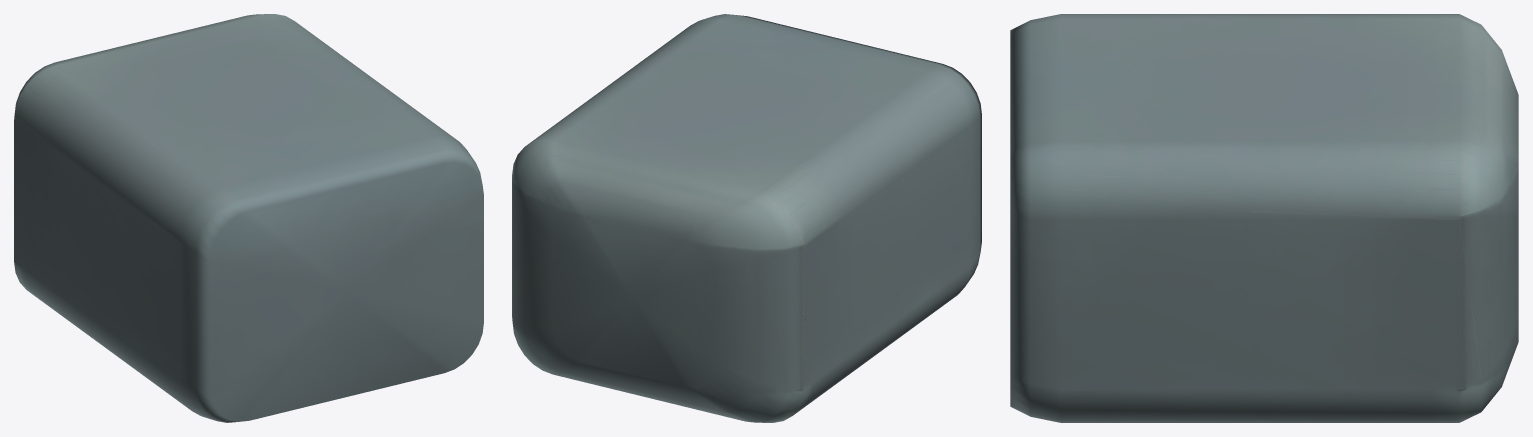
File: SM_S5_Propulsion.glb
3 views of the same model, side by side, from view 1: azimuth 30°, elevation 25°; view 2: azimuth 150°, elevation 25°; view 3: azimuth 270°, elevation 25° (orthographic). The views are drawn at different scales.
Size of the model in its own units: 1.6 by 1.2 by 2.
1 material, 1 textured.
